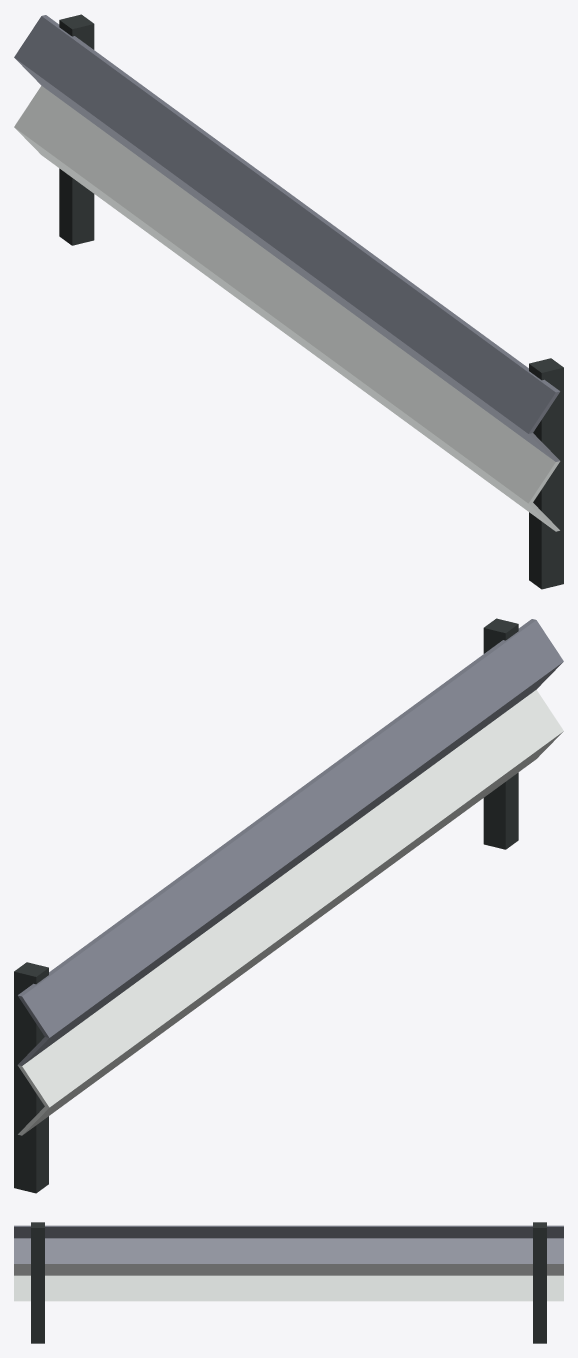
File: Highway_Fence_00.fbx
The picture shows the model from 3 angles, top to bottom: view 1: azimuth 30°, elevation 25°; view 2: azimuth 150°, elevation 25°; view 3: azimuth 270°, elevation 25°; orthographic projection. The views are drawn at different scales.
Parts seen in each view (by area): view 1: Highway_Fence_00; view 2: Highway_Fence_00; view 3: Highway_Fence_00.
Part boxes in pixels (left/top/right/bottom): Highway_Fence_00: left=14, top=14, right=563, bottom=589; Highway_Fence_00: left=14, top=618, right=563, bottom=1193; Highway_Fence_00: left=14, top=1222, right=563, bottom=1343.
Bounding box in the file's own units: 70.56 × 283 × 1219.
Materials: 1 (1 with a texture image).
